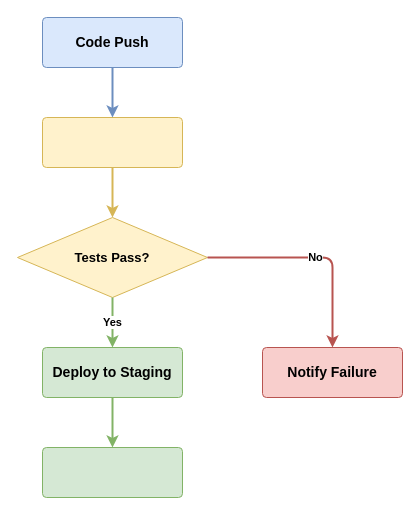
The diagram is 420 pixels wide and 515 high, and some of its shapes have lost their labels. Each missing label, with the box of its shape:
Deploy to Prod: (42, 446, 182, 498)
Run Tests: (42, 116, 182, 168)
